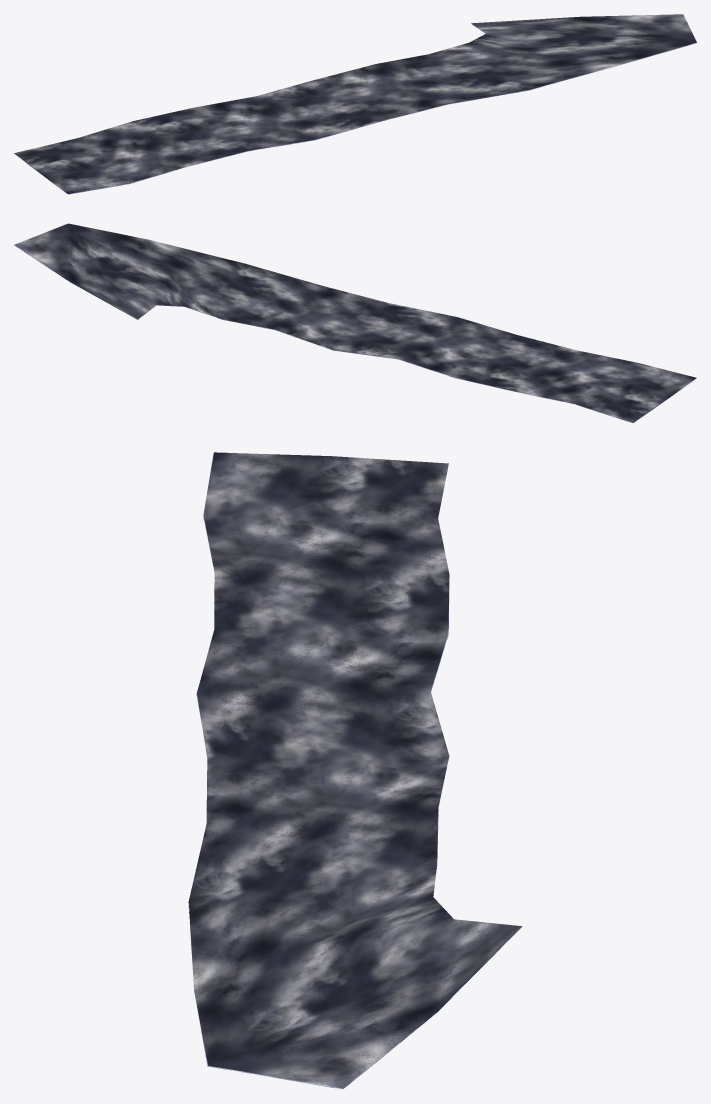
Rendered from LONE_MOUNTAIN_WATERFALLS_MAIN_WATER_COOLER03.fbx.
3 renders of one model, top to bottom at view 1: azimuth 30°, elevation 25°; view 2: azimuth 150°, elevation 25°; view 3: azimuth 270°, elevation 25°, orthographic. The views are drawn at different scales.
Visible parts, largest first — view 1: LONE_MOUNTAIN_WATERFALLS_MAIN_WATER_COOLER03; view 2: LONE_MOUNTAIN_WATERFALLS_MAIN_WATER_COOLER03; view 3: LONE_MOUNTAIN_WATERFALLS_MAIN_WATER_COOLER03.
Part boxes in pixels (x1,y1,x2,y2): LONE_MOUNTAIN_WATERFALLS_MAIN_WATER_COOLER03: (14,14,696,194); LONE_MOUNTAIN_WATERFALLS_MAIN_WATER_COOLER03: (14,223,696,423); LONE_MOUNTAIN_WATERFALLS_MAIN_WATER_COOLER03: (188,452,522,1089).
Size of the model in its own units: 176525 by 1096 by 39414.
Materials: 2 (2 with a texture image).
